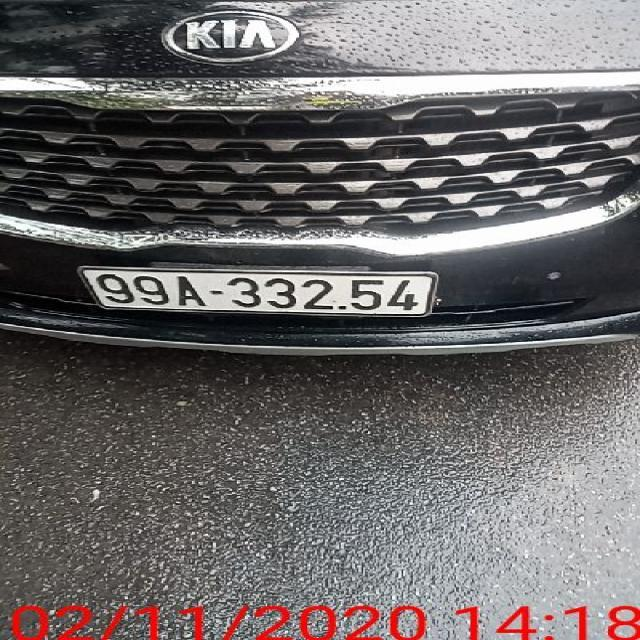bien_so_oto: (76, 265, 439, 319)
